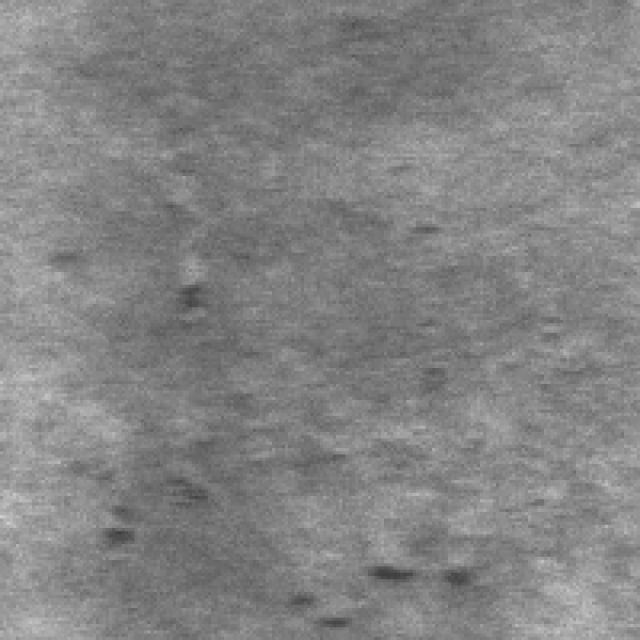rolled-in_scale: (307, 419, 592, 586)
